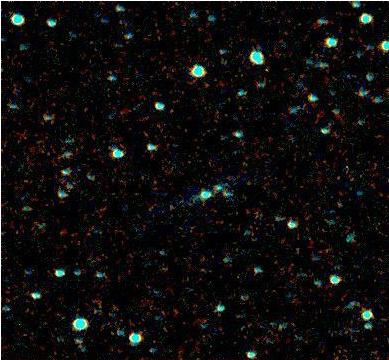star: (157, 189, 187, 219)
